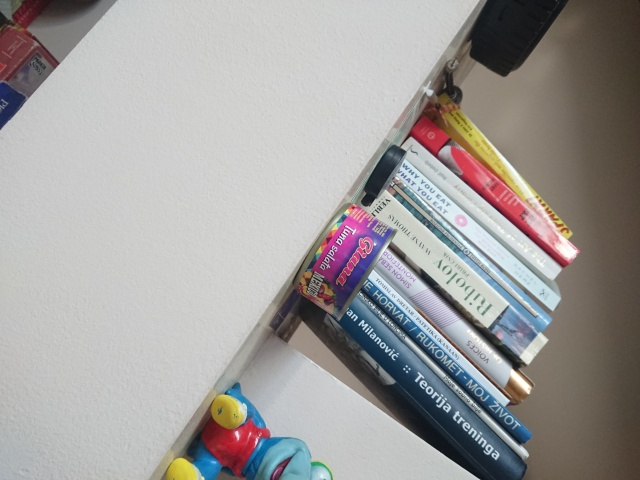Giana Tuna Salad Mexico 185g: (290, 199, 399, 324)
